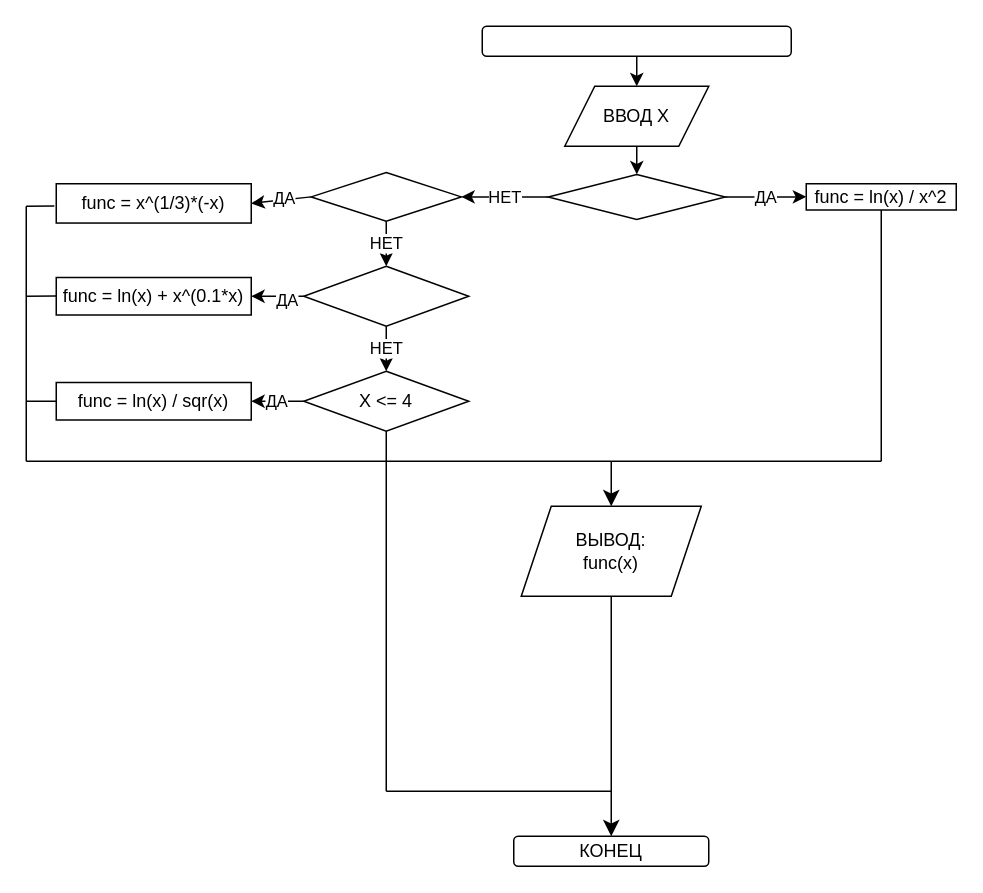
Some shapes in this 983 by 893 pixel diagram are drawn without their labels. Here are the shapes that lost their labels. From the top down, the centre of each, then its label:
At (x=636, y=40): "НАЧАЛО".
At (x=385, y=196): "-9 <= X < -2".
At (x=636, y=196): "X < -9".
At (x=385, y=295): "-2 <= X < 4".
